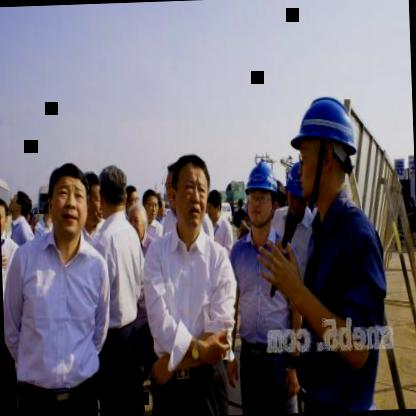head: (48, 159, 91, 238), (168, 152, 210, 226), (96, 162, 128, 224), (85, 164, 109, 222), (127, 204, 149, 246), (7, 186, 32, 220), (141, 186, 162, 224), (204, 188, 226, 223), (124, 184, 140, 209), (0, 195, 9, 235)
helmet: (294, 90, 358, 208), (242, 158, 282, 230), (284, 156, 318, 220)
